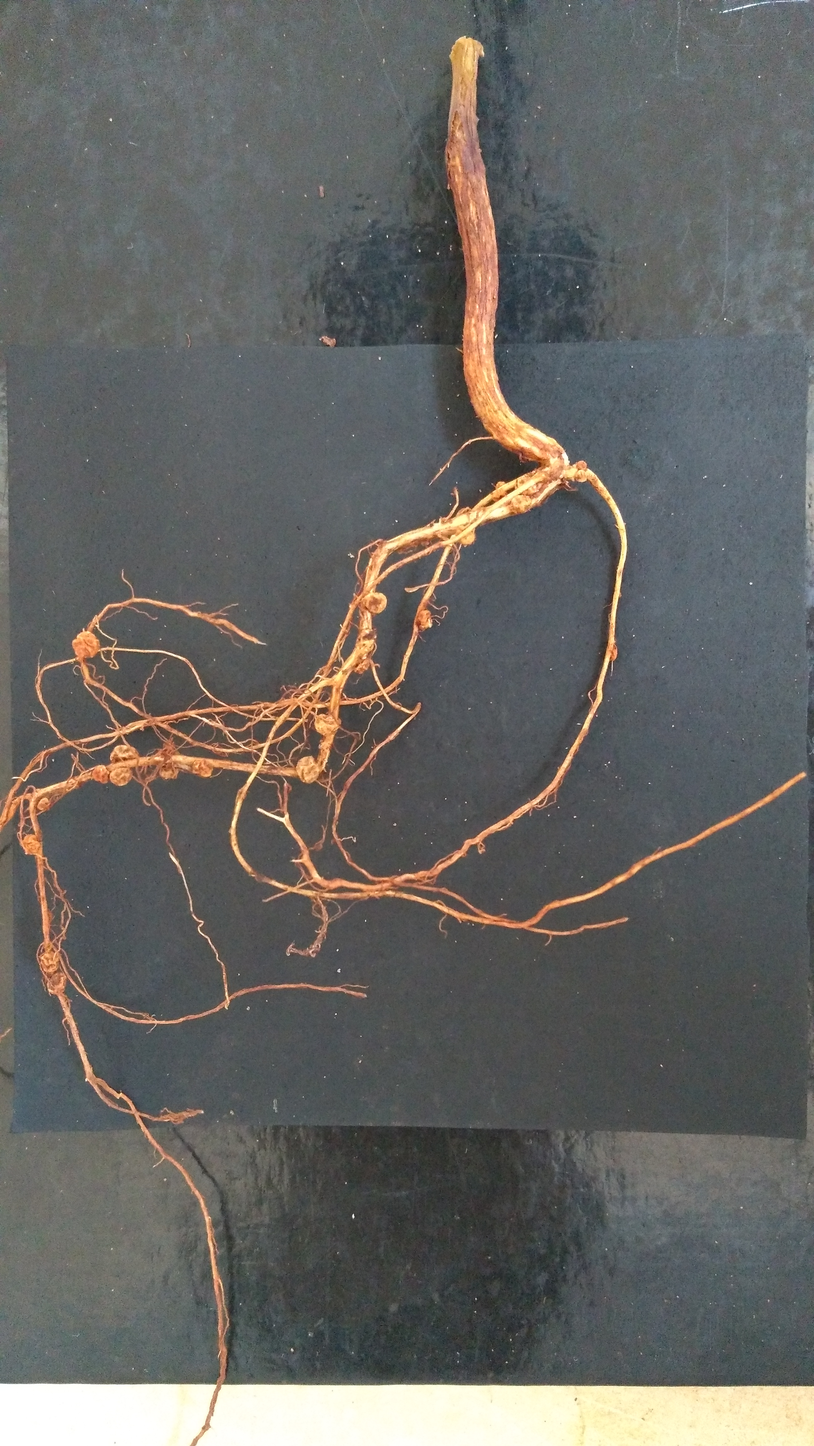nodule: (109, 745, 139, 786), (72, 631, 100, 658), (456, 507, 475, 545), (296, 756, 320, 784), (159, 747, 179, 780), (361, 592, 387, 614), (515, 476, 543, 495), (314, 714, 339, 735), (46, 971, 66, 995), (356, 629, 376, 651), (40, 951, 59, 972), (511, 495, 532, 514), (23, 834, 40, 855), (192, 760, 213, 777), (92, 765, 109, 784), (418, 610, 432, 631), (492, 481, 506, 502), (354, 658, 370, 674), (576, 460, 587, 482), (37, 797, 50, 811), (609, 644, 617, 661)
